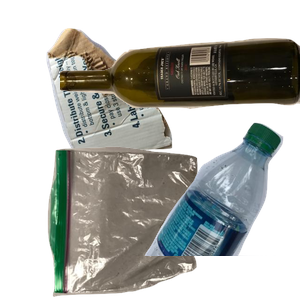cardboard: (44, 26, 209, 186)
glass: (60, 36, 300, 147)
plastic: (142, 120, 300, 300)
trash: (45, 144, 235, 300)
